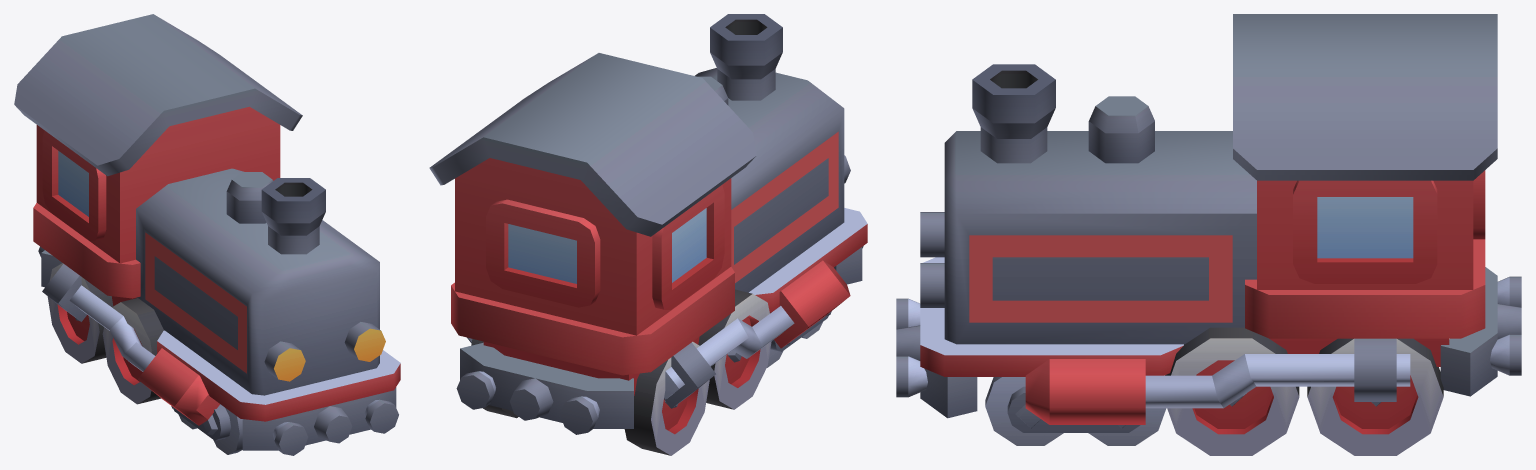
File: tr-train-locomotive-b.glb
3 renders of one model, left to right at view 1: azimuth 30°, elevation 25°; view 2: azimuth 150°, elevation 25°; view 3: azimuth 270°, elevation 25°, orthographic. The views are drawn at different scales.
Visible parts, largest first — view 1: train-locomotive-b; view 2: train-locomotive-b; view 3: train-locomotive-b.
Boxes of the visible parts, left/top/right/bottom form: train-locomotive-b: left=14, top=14, right=400, bottom=455; train-locomotive-b: left=429, top=14, right=867, bottom=455; train-locomotive-b: left=896, top=14, right=1521, bottom=455.
Size of the model in its own units: 1.32 by 1.66 by 2.6.
Materials: 1 (1 with a texture image).
